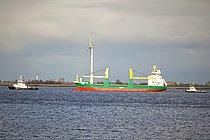Ship: (70, 30, 170, 96)
